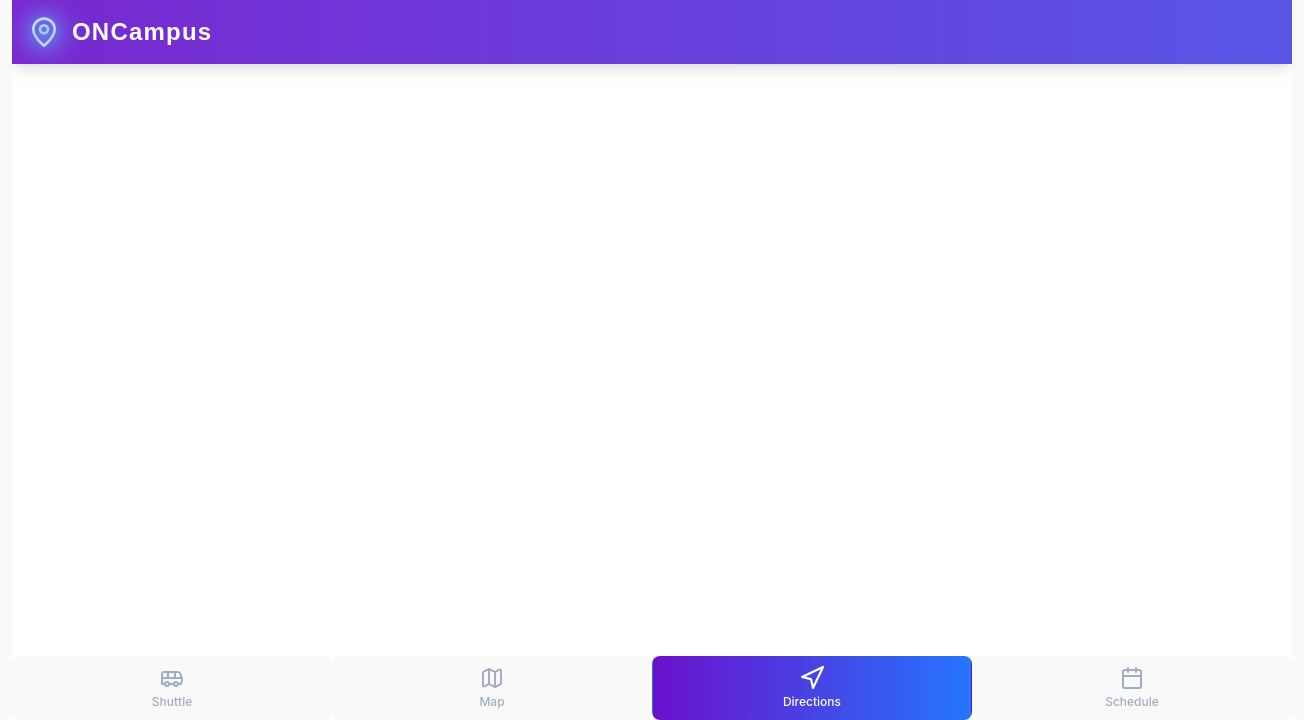
Testing Bottom NavBar UI › opens the map menu when the map icon is clicked and shows options
The image size is (1304, 720).
Click the button "Map" at (492, 688), box x1=332 y1=656 x2=652 y2=719
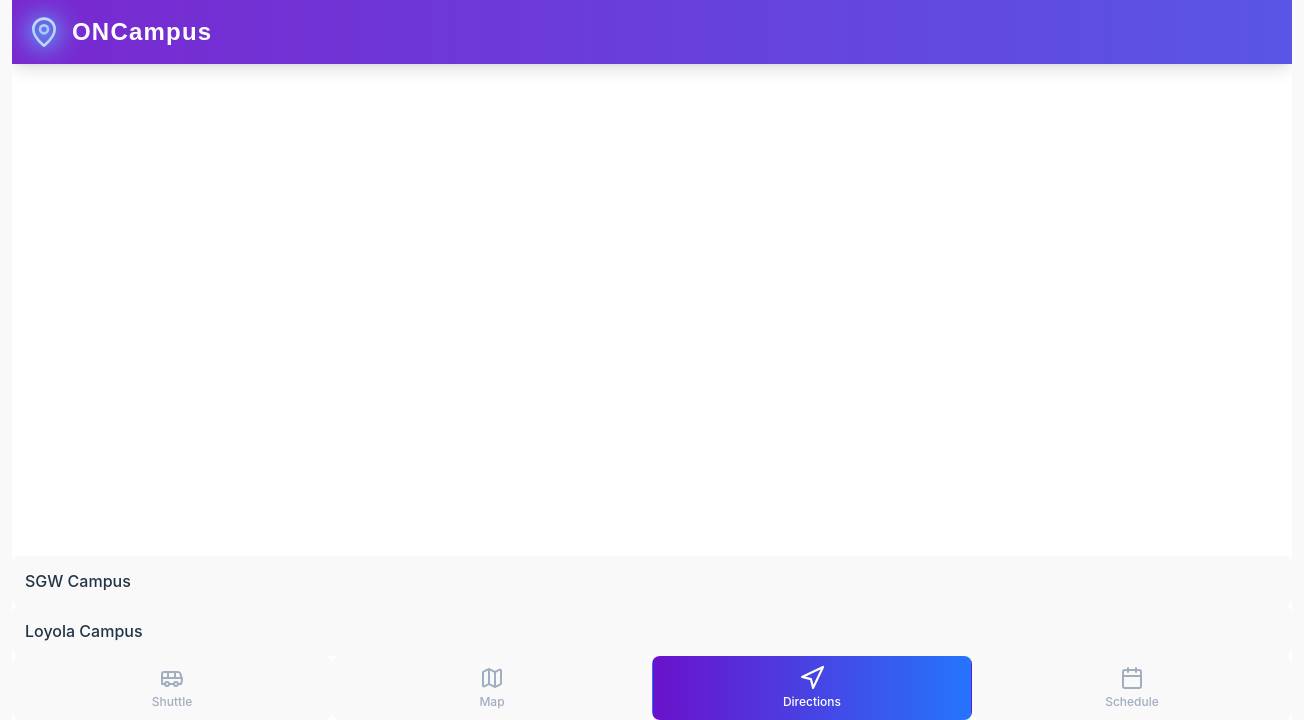
Expected: the button "SGW Campus" is shown, x1=12 y1=556 x2=1292 y2=606
Expected: the button "Loyola Campus" is shown, x1=12 y1=606 x2=1292 y2=656
